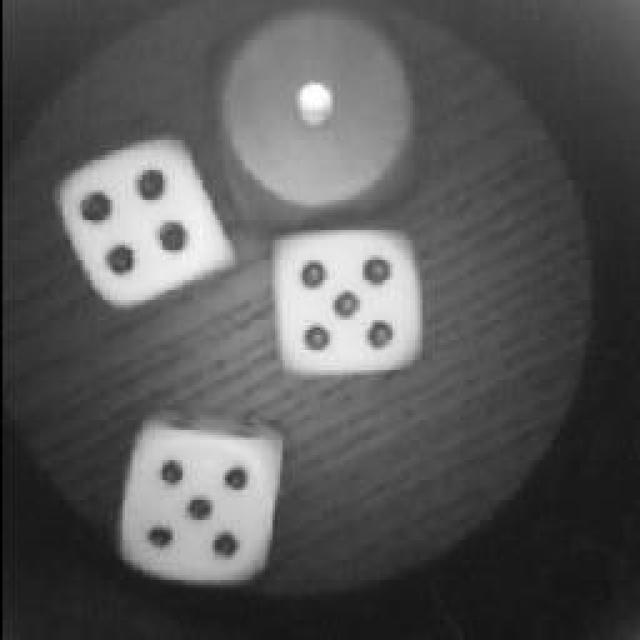dice_1: (202, 5, 422, 215)
dice_4: (50, 138, 238, 308)
dice_5: (105, 410, 290, 595), (258, 220, 430, 388)
